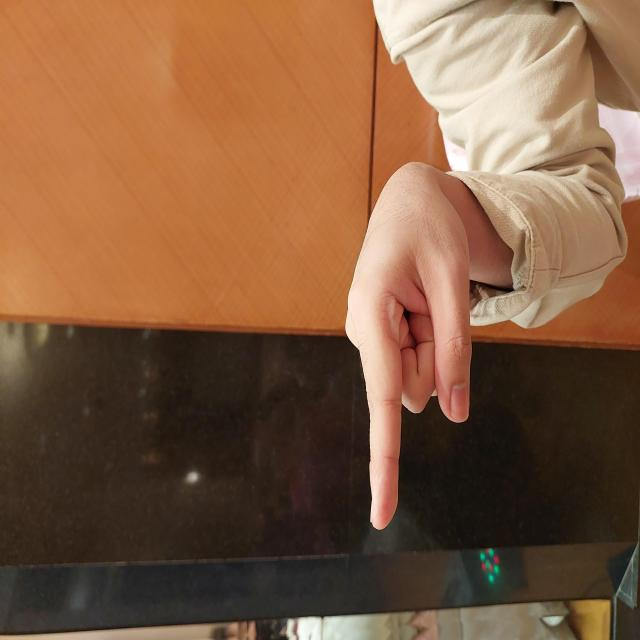Z: (106, 340, 472, 473)
